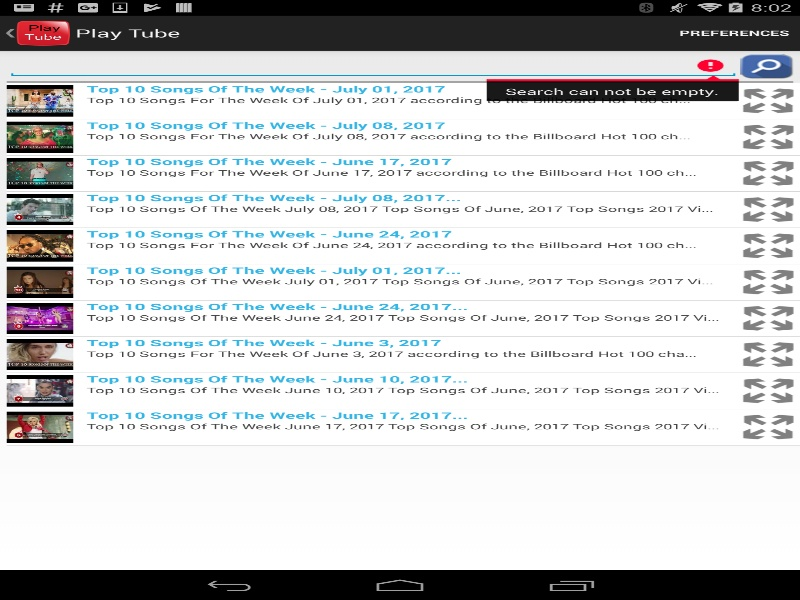Input: (6, 53, 740, 78)
